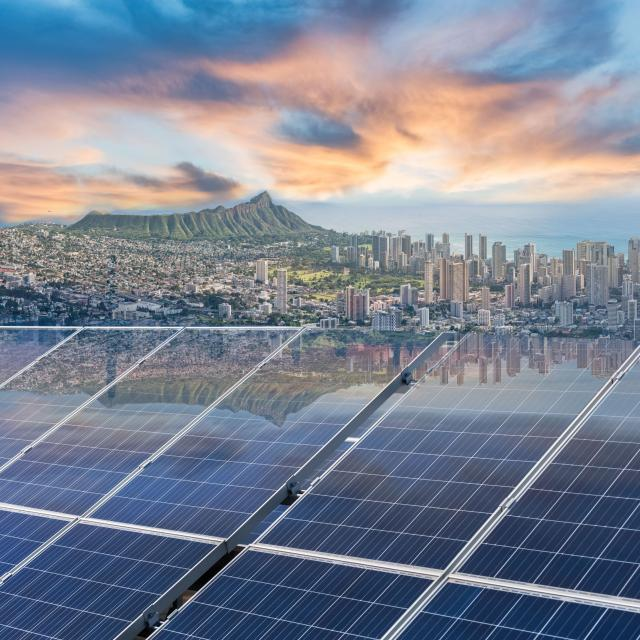clean-solar-panel: (1, 322, 640, 640)
